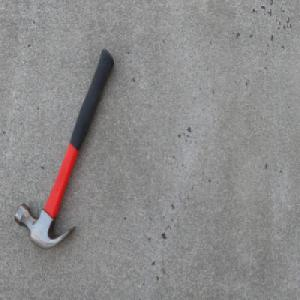Hammer: (14, 47, 115, 251)
